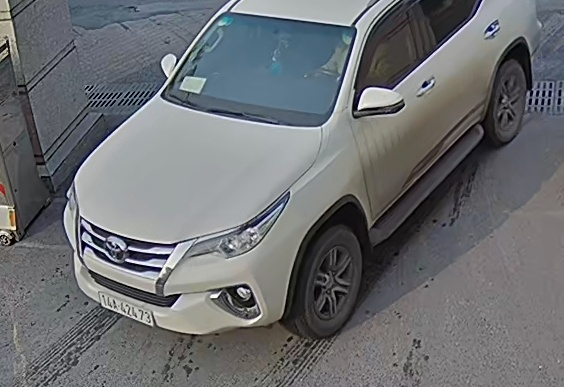vehicle plate: (91, 289, 156, 332)
